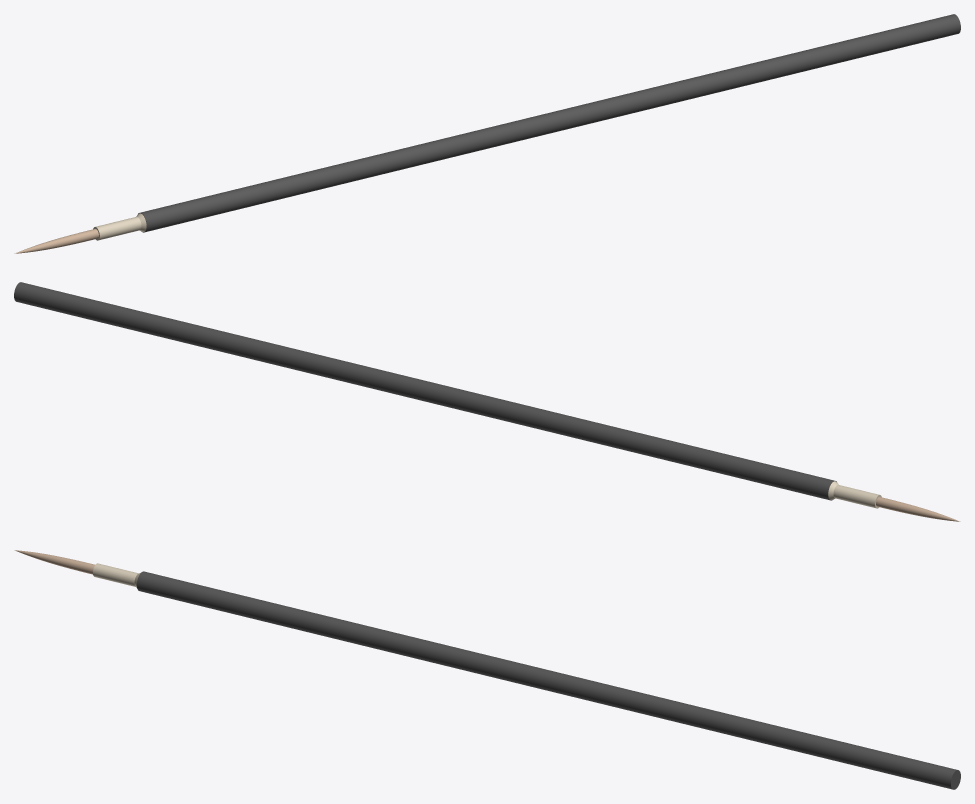
Rendered from 267_書道筆細.glb.
3 views of the same model, one above another, from view 1: azimuth 30°, elevation 25°; view 2: azimuth 150°, elevation 25°; view 3: azimuth 330°, elevation 25° (orthographic).
Parts seen in each view (by area): view 1: Body1; view 2: Body1; view 3: Body1.
Boxes of the visible parts, <box> form: Body1: <box>14,14,960,253</box>; Body1: <box>14,282,960,521</box>; Body1: <box>14,550,960,789</box>.
Bounding box in the file's own units: 0.214 × 0.004 × 0.004.
